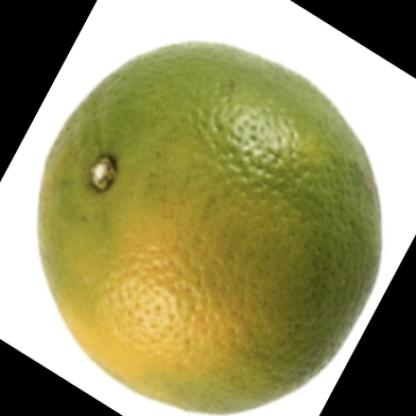fresh: (36, 40, 382, 416)
